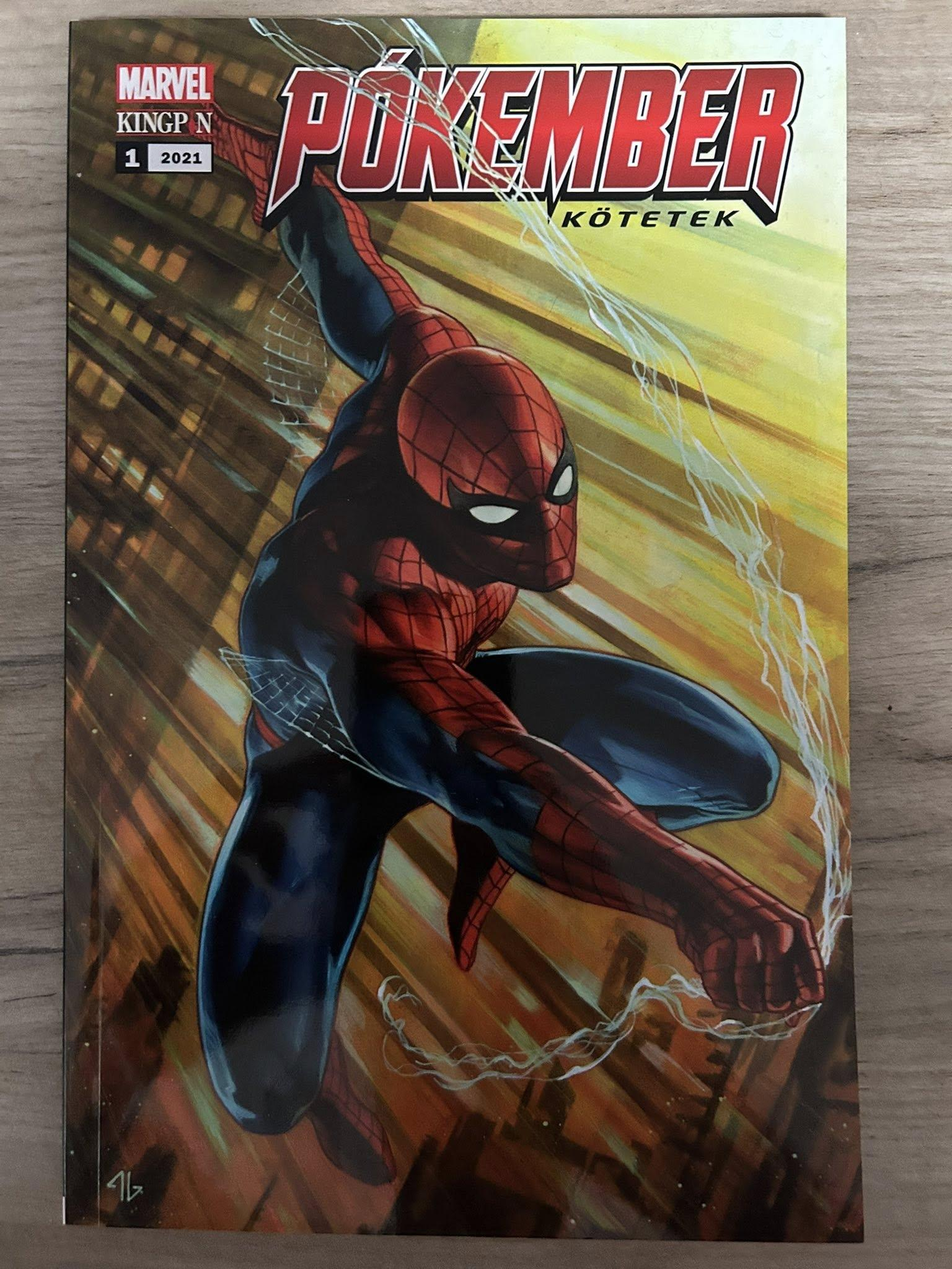comic: (66, 15, 865, 1241)
